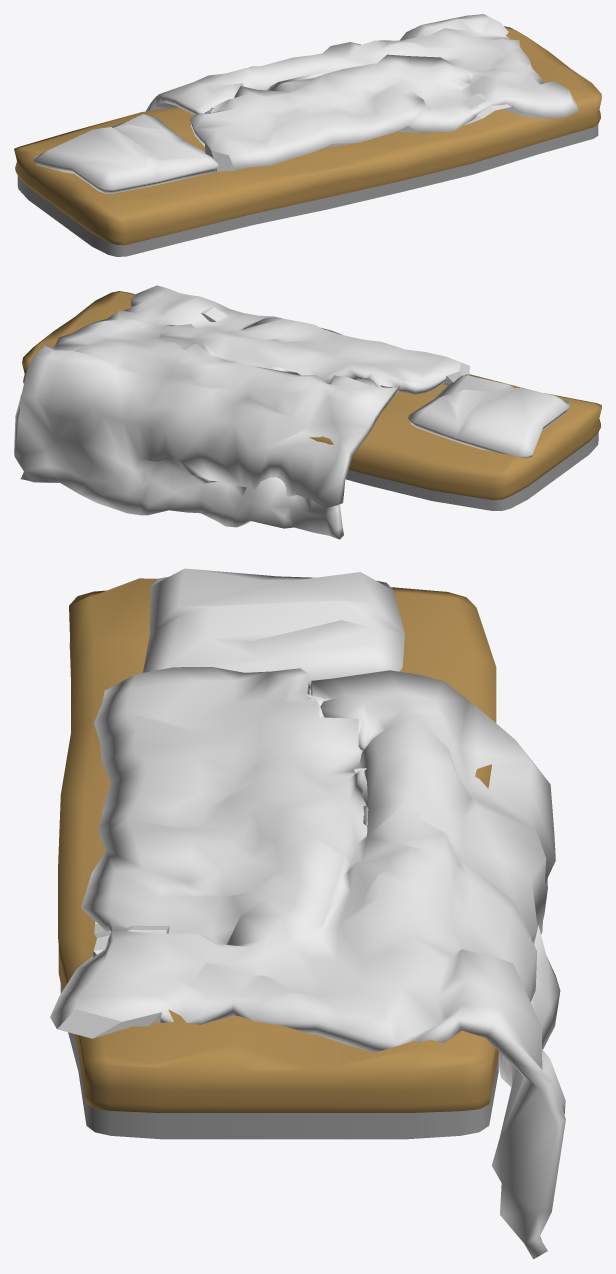
Rendered from Bed.fbx.
3 views of the same model, one above another, from view 1: azimuth 30°, elevation 25°; view 2: azimuth 150°, elevation 25°; view 3: azimuth 270°, elevation 25° (orthographic). The views are drawn at different scales.
Visible parts, largest first — view 1: Plane.001, materac; view 2: Plane.001, materac; view 3: Plane.001, materac.
Part boxes in pixels (<box>): Plane.001: <box>33,14,578,193</box>; materac: <box>14,26,601,256</box>; Plane.001: <box>14,285,570,539</box>; materac: <box>22,291,601,510</box>; Plane.001: <box>50,568,565,1259</box>; materac: <box>58,578,498,1139</box>.
Bounding box in the file's own units: 404 × 113 × 183.
